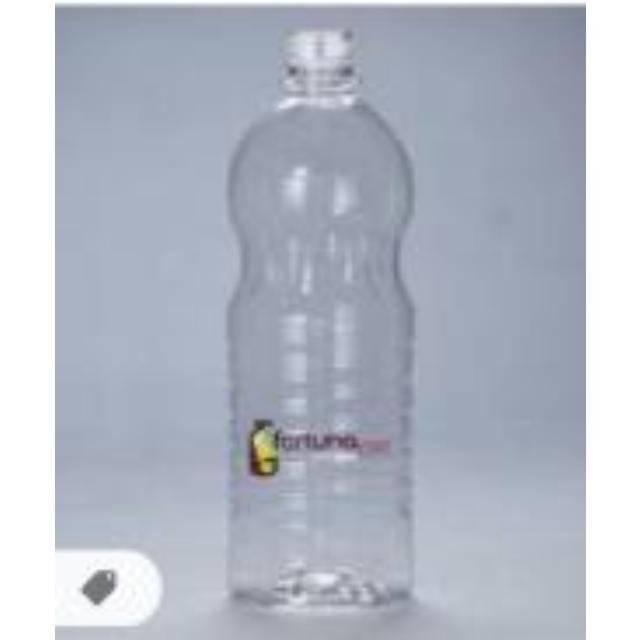Botella de plastico: (228, 30, 414, 605)
